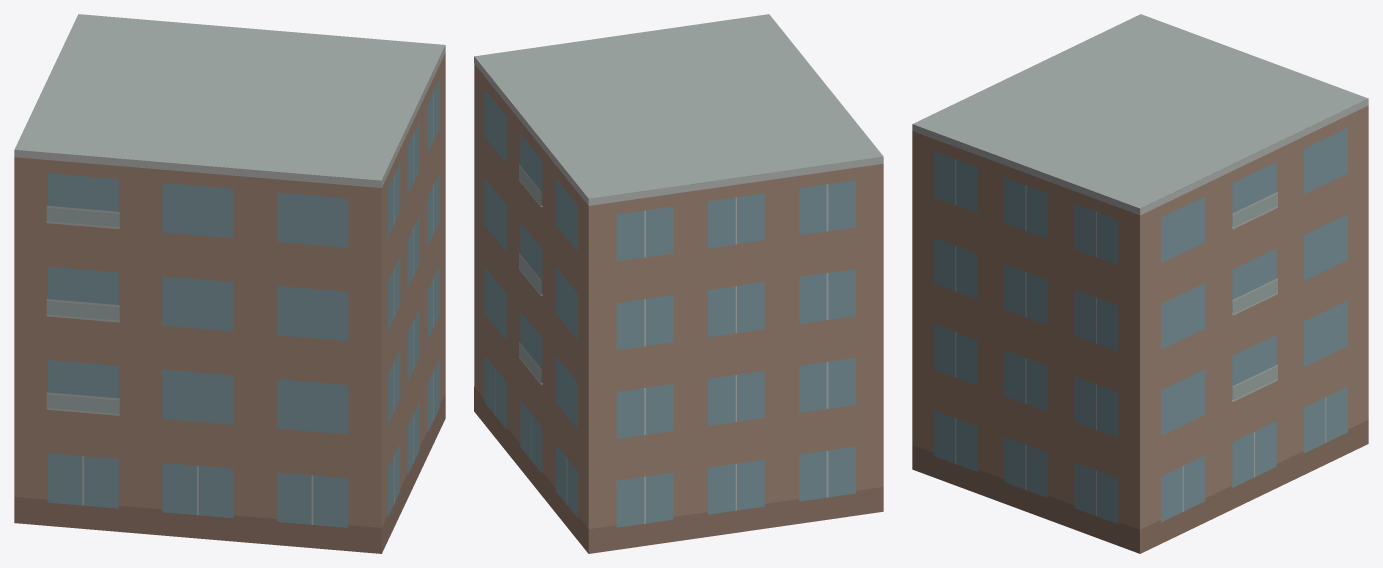
File: residential-299b65b4-abc0-442f-b069-db9910b22a7c.glb
3 renders of one model, left to right at view 1: azimuth 30°, elevation 25°; view 2: azimuth 150°, elevation 25°; view 3: azimuth 270°, elevation 25°, orthographic. The views are drawn at different scales.
Parts seen in each view (by area): view 1: residential-299b65b4-abc0-442f-b069-db9910b22a7c.tmp; view 2: residential-299b65b4-abc0-442f-b069-db9910b22a7c.tmp; view 3: residential-299b65b4-abc0-442f-b069-db9910b22a7c.tmp.
Boxes of the visible parts, bbox=[...] form: residential-299b65b4-abc0-442f-b069-db9910b22a7c.tmp: bbox=[14, 14, 445, 553]; residential-299b65b4-abc0-442f-b069-db9910b22a7c.tmp: bbox=[474, 14, 883, 553]; residential-299b65b4-abc0-442f-b069-db9910b22a7c.tmp: bbox=[912, 14, 1368, 553].
Bounding box in the file's own units: 14.75 × 12.2 × 14.61.
